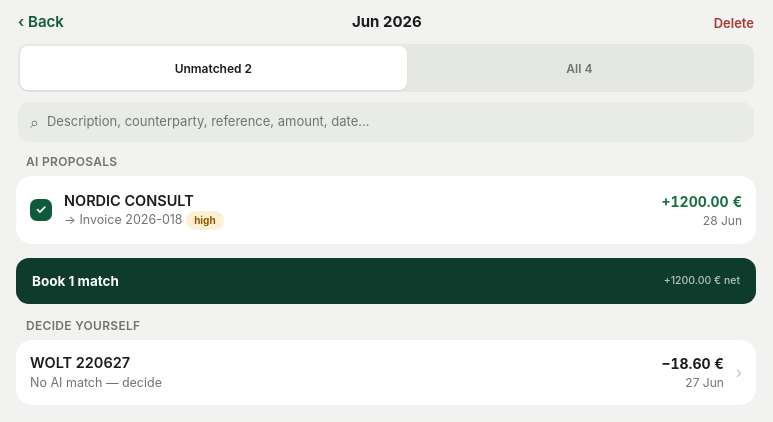
StatementScreen booking › deselecting the proposal hides the Book bar
Click the checkbox named "select match invoice 2026-018".
click(41, 210)  # box [19,188,63,232]
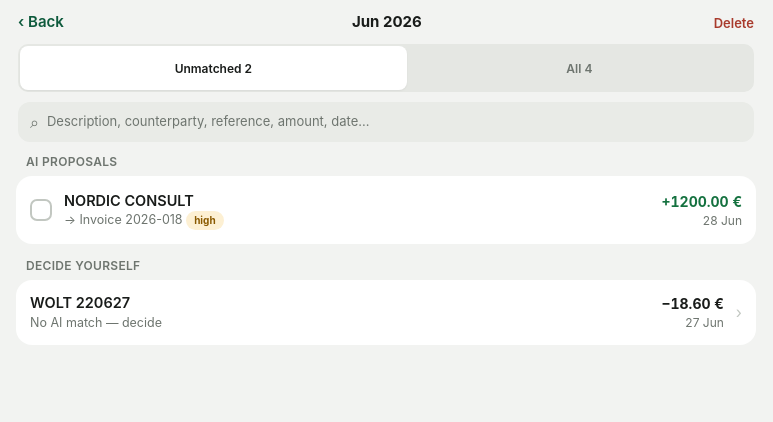
Check: the button "Book" is gone
